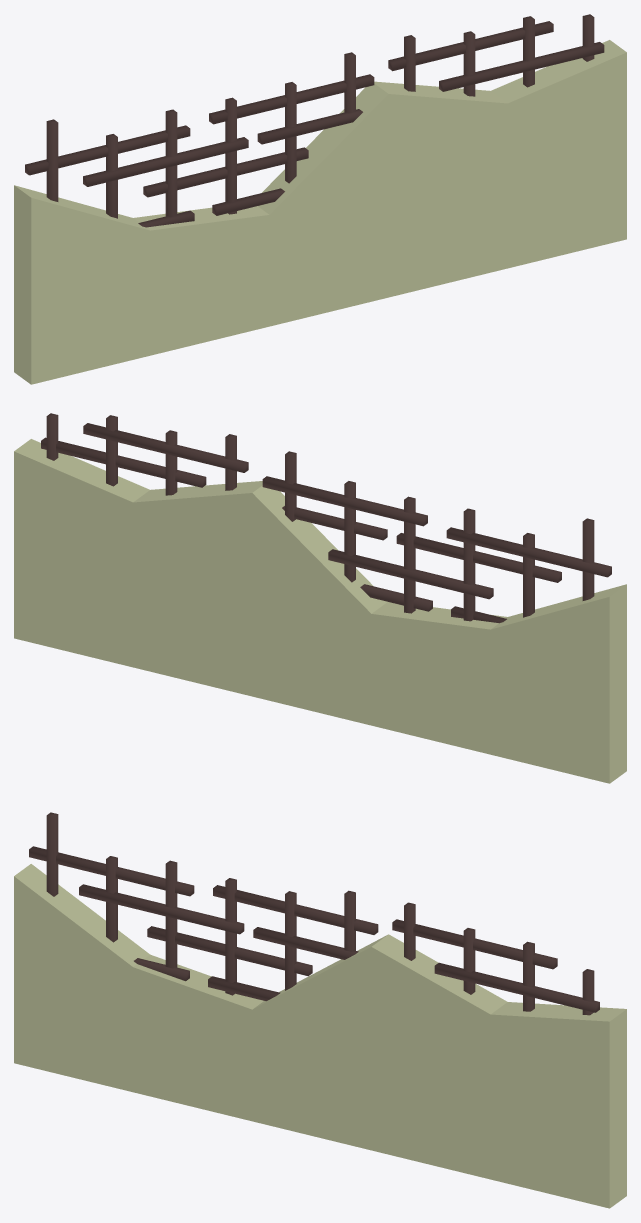
File: ruined_wall.glb
3 renders of one model, top to bottom at view 1: azimuth 30°, elevation 25°; view 2: azimuth 150°, elevation 25°; view 3: azimuth 330°, elevation 25°, orthographic.
Visible parts, largest first — view 1: Cube.001; view 2: Cube.001; view 3: Cube.001.
Part boxes in pixels (x1,y1,x2,y2): Cube.001: (14, 14, 626, 384); Cube.001: (14, 413, 626, 783); Cube.001: (14, 812, 626, 1208).
Size of the model in its own units: 5 by 2 by 0.25.
1 material, 1 textured.
